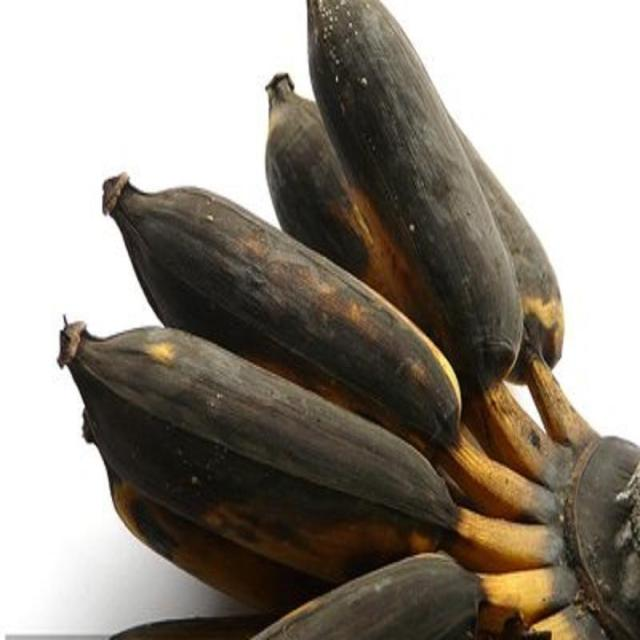Wet Waste: (55, 1, 639, 639)
